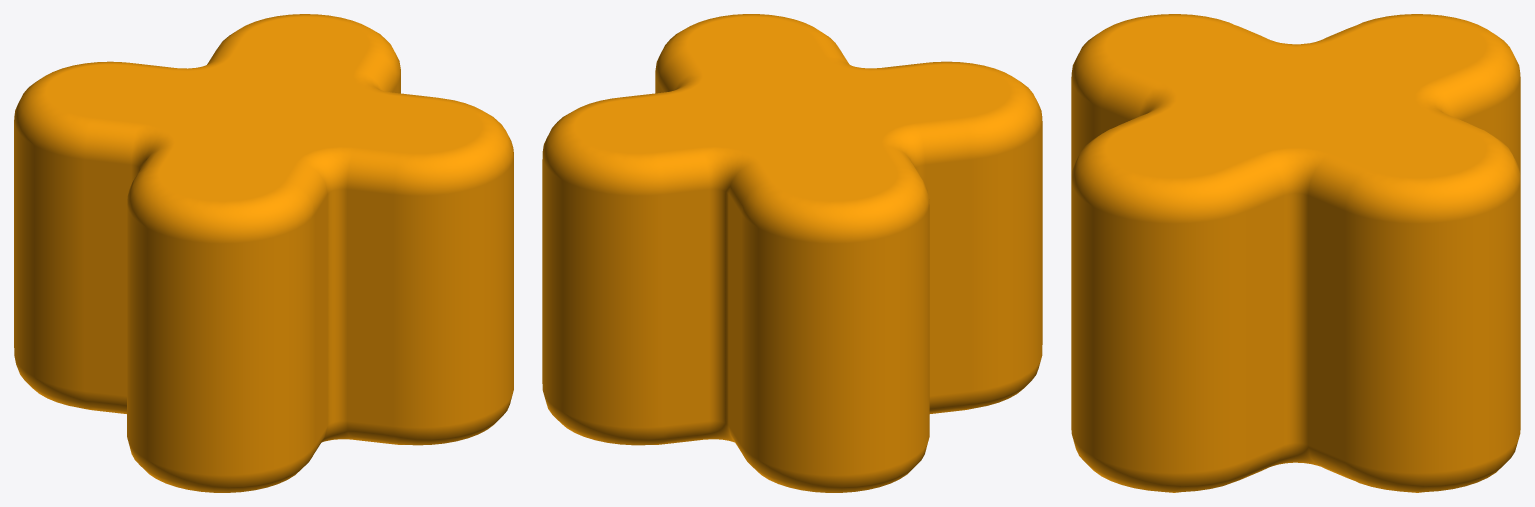
The model's file is cross_render.glb.
The picture shows the model from 3 angles, left to right: view 1: azimuth 30°, elevation 25°; view 2: azimuth 150°, elevation 25°; view 3: azimuth 270°, elevation 25°; orthographic projection. The views are drawn at different scales.
Visible parts, largest first — view 1: NAUO1; view 2: NAUO1; view 3: NAUO1.
Part boxes in pixels (left/top/right/bottom): NAUO1: left=14, top=14, right=513, bottom=492; NAUO1: left=542, top=14, right=1042, bottom=492; NAUO1: left=1071, top=14, right=1520, bottom=492.
Size of the model in its own units: 0.0261 by 0.02 by 0.0261.
